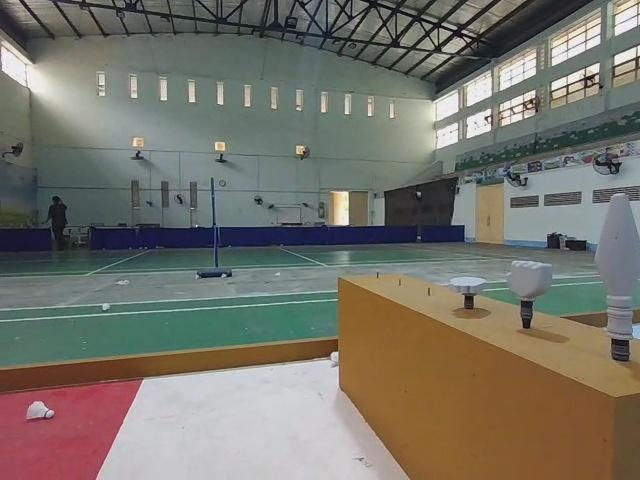Fist: (509, 257, 556, 330)
Hand: (451, 272, 488, 307)
Sph: (594, 193, 640, 366)
